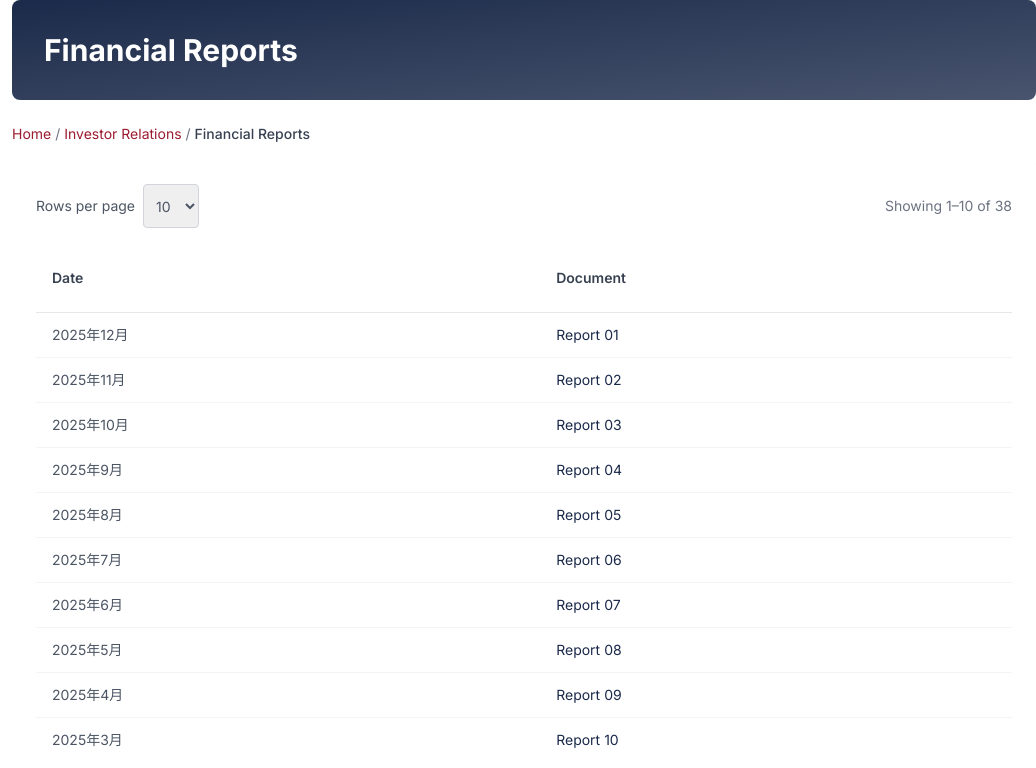
Scenario: Financial Reports page (reports table) › navigates report pages by clicking the numbered buttons (regression)
Step 1. Click the button "Document" → point(591, 278), box [556, 256, 626, 300]
(page scrolled)
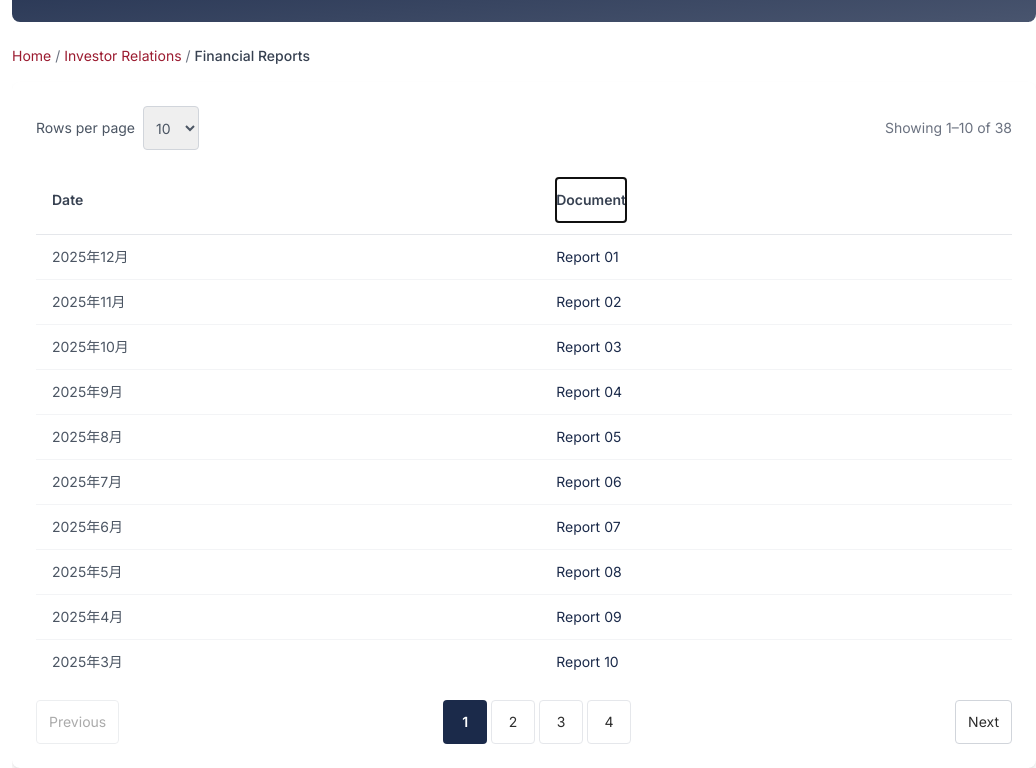
expect the text "Showing 1–10 of 38" is shown: met, box [885, 118, 1012, 138]
# Click the "Page 4" number button directly.
Step 2. Click the button named "Page 4" → point(609, 722), box [587, 700, 631, 744]
(page scrolled)
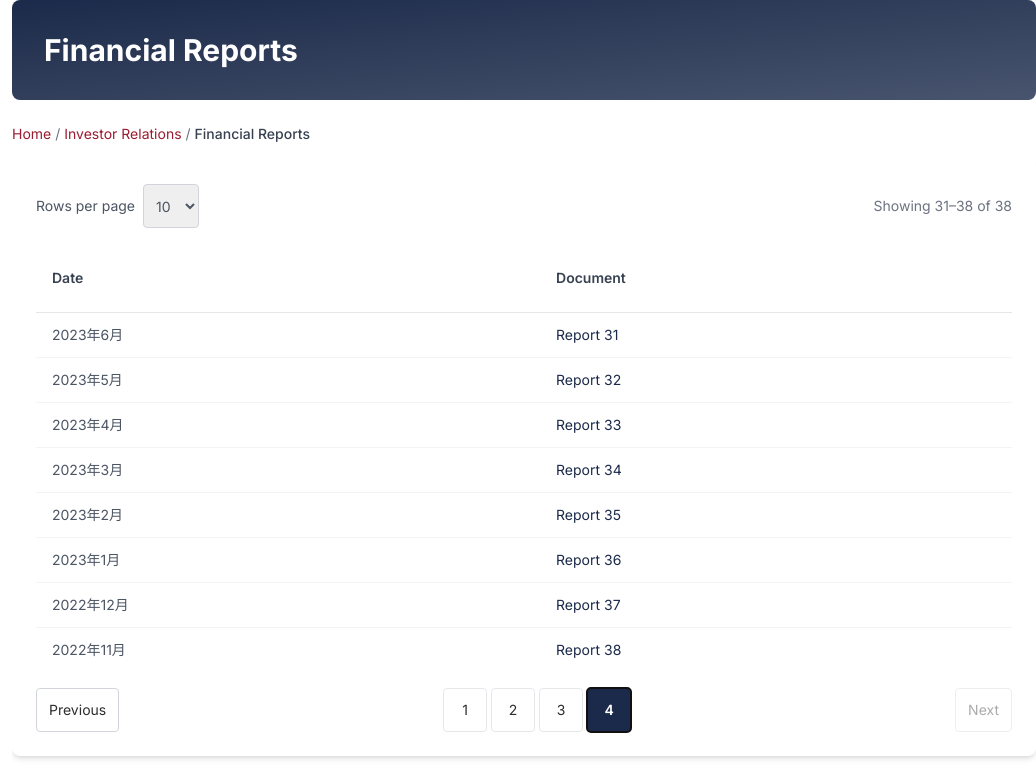
expect the text "Showing 31–38 of 38" is shown: met, box [874, 196, 1012, 216]
expect the link "Report 38" is shown: met, box [556, 641, 621, 658]
Step 3. Click the button named "Page 2" → point(513, 710), box [491, 688, 535, 732]
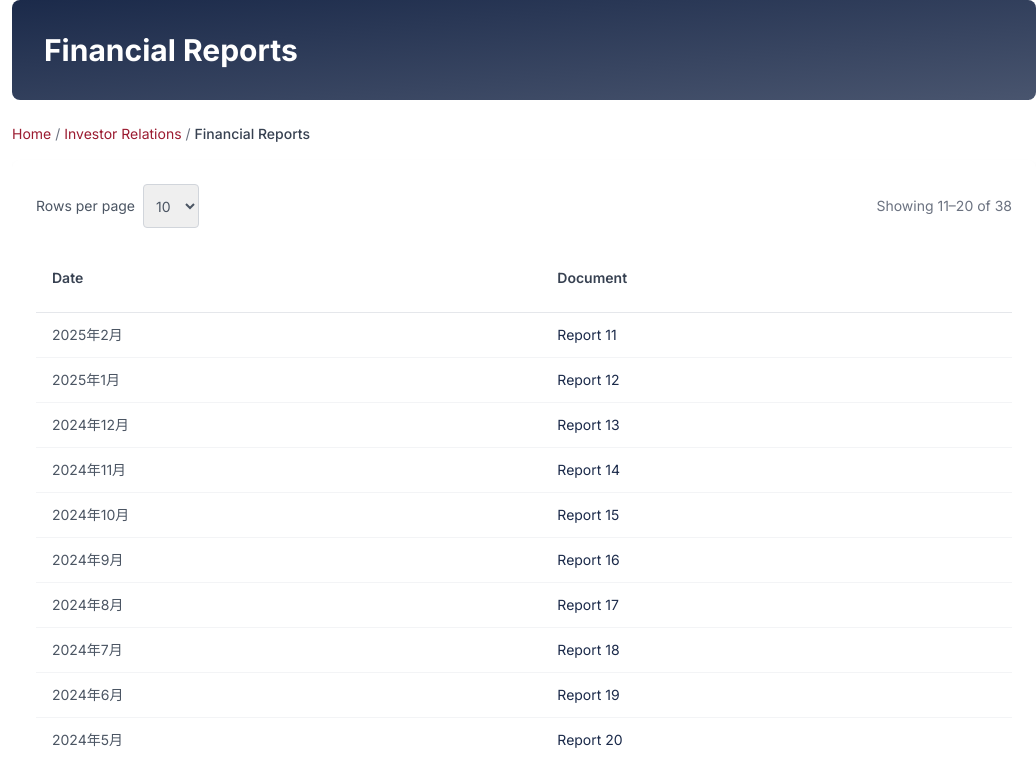
expect the text "Showing 11–20 of 38" is shown: met, box [876, 196, 1012, 216]
